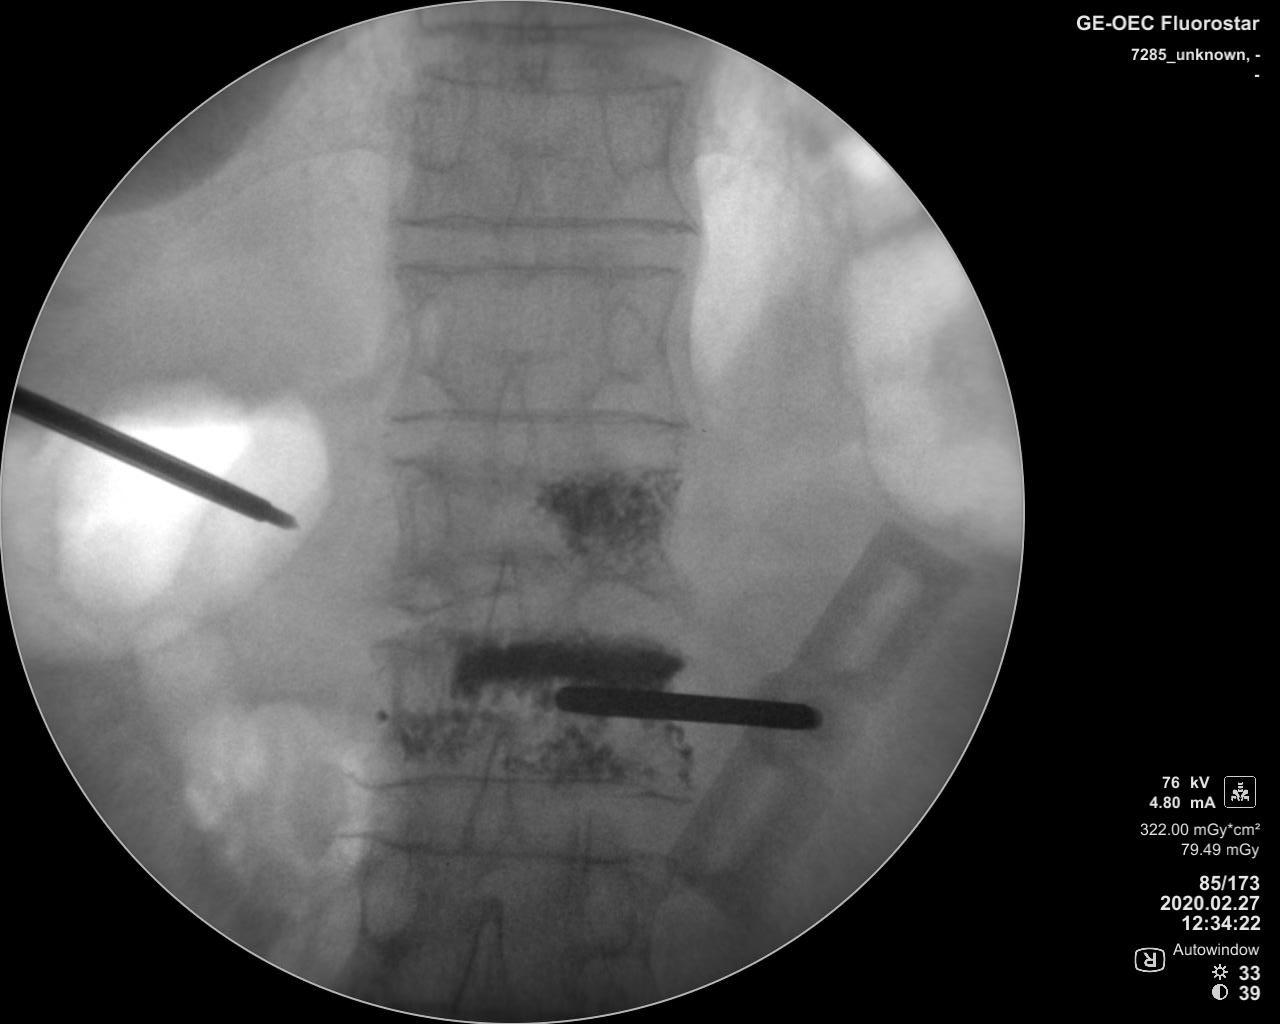eyes: (411, 75, 481, 177), (594, 79, 666, 178), (388, 460, 451, 564), (358, 846, 418, 951), (578, 859, 639, 959), (598, 299, 662, 382), (405, 296, 455, 386)
line: (338, 827, 647, 872), (347, 767, 683, 804), (381, 402, 695, 436), (388, 209, 704, 241), (390, 254, 691, 285), (411, 64, 686, 97), (417, 17, 670, 44)
nose: (451, 894, 521, 1023), (466, 724, 517, 864), (488, 353, 535, 473), (498, 167, 542, 294), (483, 536, 526, 649), (512, 6, 556, 90)
